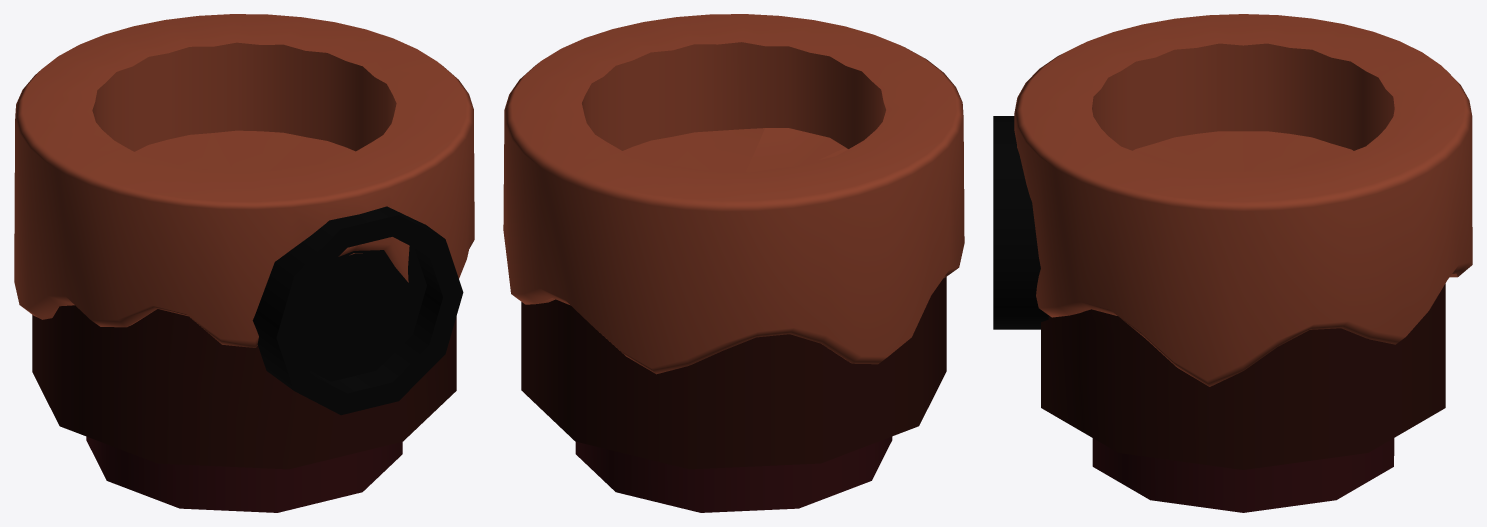
The model's file is SKM_Turret.fbx.
3 views of the same model, side by side, from view 1: azimuth 30°, elevation 25°; view 2: azimuth 150°, elevation 25°; view 3: azimuth 270°, elevation 25° (orthographic).
Visible parts, largest first — view 1: SKM_Turret; view 2: SKM_Turret; view 3: SKM_Turret.
Part boxes in pixels (<box>): SKM_Turret: <box>14,14,474,512</box>; SKM_Turret: <box>503,14,964,512</box>; SKM_Turret: <box>993,14,1472,512</box>.
Size of the model in its own units: 2.02 by 1.65 by 2.11.
